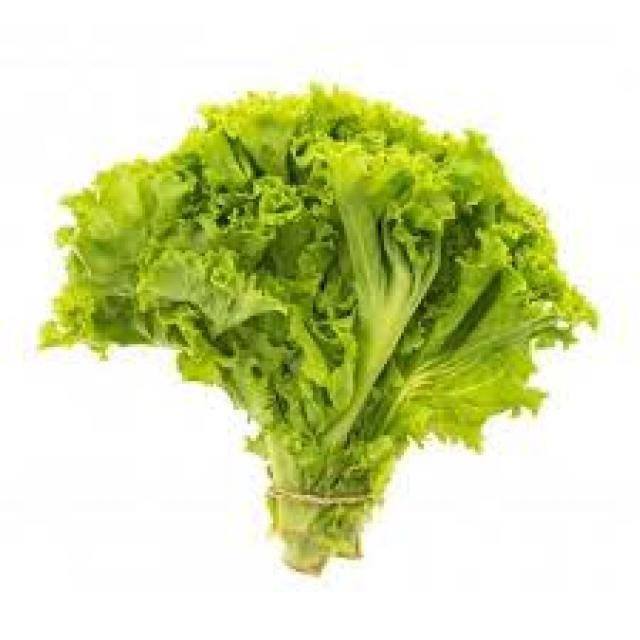Lettuce: (50, 81, 587, 566)
